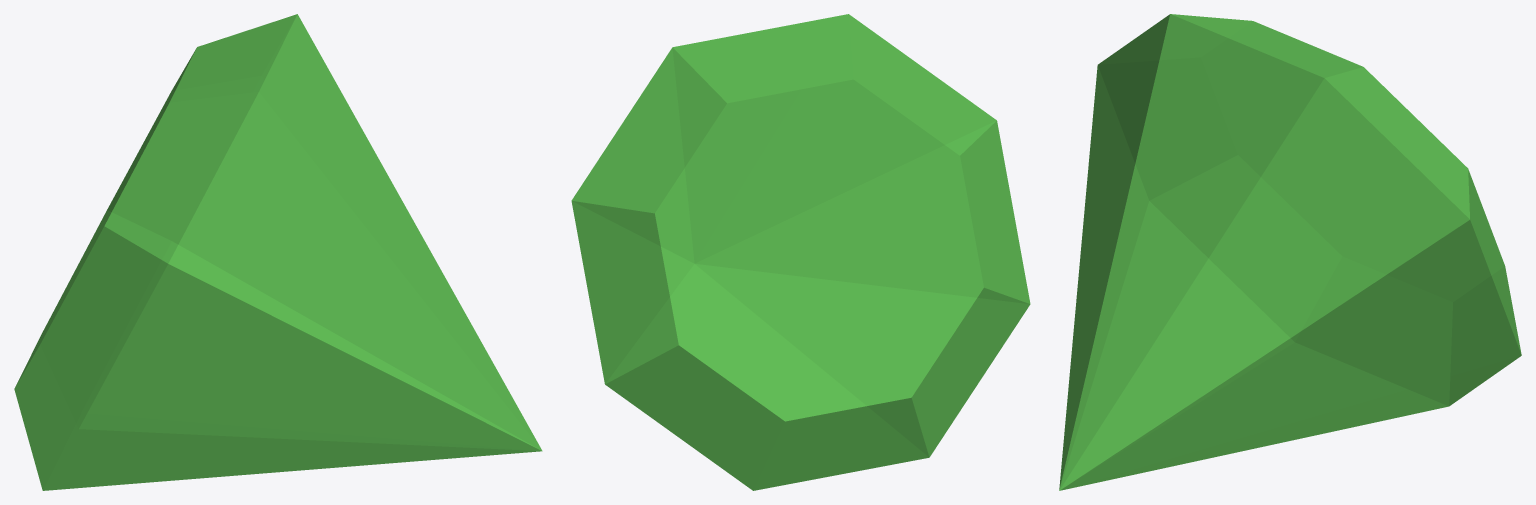
File: PrototypeGem.fbx
3 renders of one model, left to right at view 1: azimuth 30°, elevation 25°; view 2: azimuth 150°, elevation 25°; view 3: azimuth 270°, elevation 25°, orthographic. The views are drawn at different scales.
Visible parts, largest first — view 1: Emerald.001; view 2: Emerald.001; view 3: Emerald.001.
Boxes of the visible parts, x1,y1,x2,y2 form: Emerald.001: [14, 14, 542, 490]; Emerald.001: [571, 14, 1030, 490]; Emerald.001: [1059, 14, 1521, 490].
Bounding box in the file's own units: 69.34 × 65.95 × 67.48.
